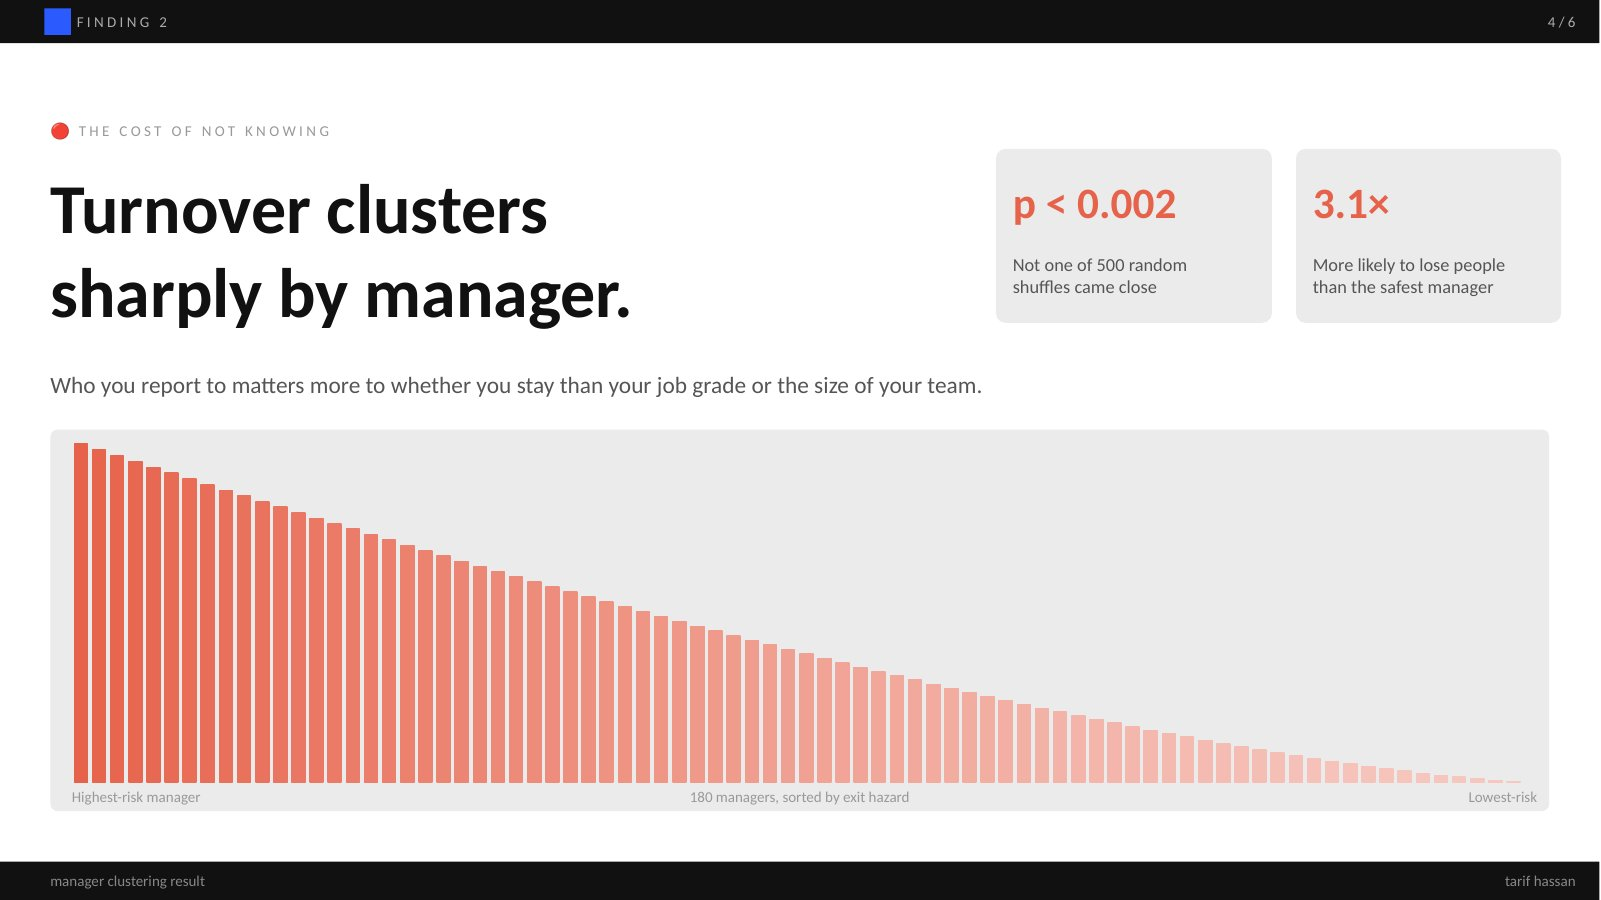

The dashboard page shown, as its layout file describes it:
{"tool":"powerbi","page":{"name":"Page 1","canvas":[1280,720],"ordinal":0},"visuals":[{"type":"clusteredBarChart","fields":{"Category":["clean turnover_analysis.manager_id"],"Y":["clean turnover_analysis.ExitRate"]},"box":[236,100.2,719,620.2],"z":0},{"type":"listSlicer","fields":{"Values":["clean turnover_analysis.grade"]},"box":[1029.2,118,76.8,241.5],"z":1},{"type":"textbox","box":[236,0,870,104.3],"z":2}]}

Visuals, with their boxes in screenshot pixels (x1, y1, x2, y2), scaled from the page's 1280x720 canvas onto the 1601x900 screenshot:
clusteredBarChart - clean turnover_analysis.manager_id x clean turnover_analysis.ExitRate: [left=295, top=125, right=1194, bottom=899]
listSlicer - clean turnover_analysis.grade: [left=1287, top=148, right=1383, bottom=449]
textbox: [left=295, top=0, right=1383, bottom=130]
